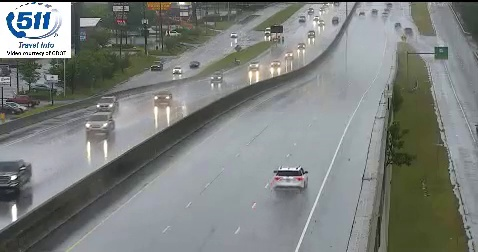car: (274, 167, 307, 189)
